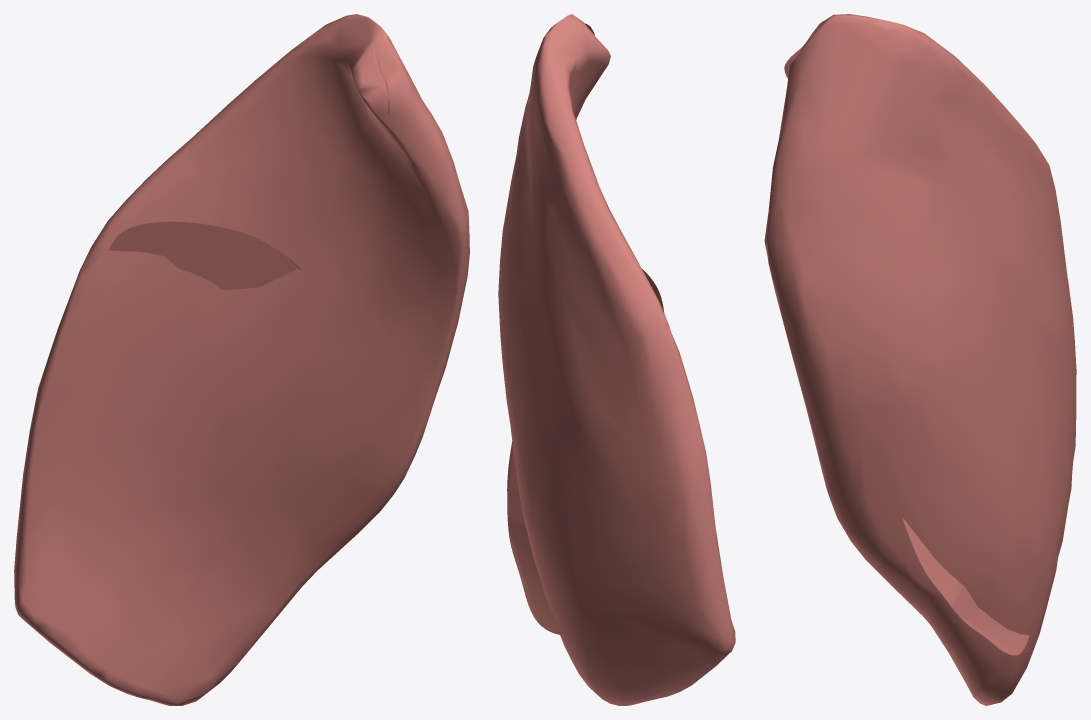
Rendered from fma46578_mm1200.glb.
The picture shows the model from 3 angles, left to right: view 1: azimuth 30°, elevation 25°; view 2: azimuth 150°, elevation 25°; view 3: azimuth 270°, elevation 25°; orthographic projection. The views are drawn at different scales.
Parts seen in each view (by area): view 1: FMA46578_MM1200; view 2: FMA46578_MM1200; view 3: FMA46578_MM1200.
Boxes of the visible parts, box(x1,y1,x2,y2) form: FMA46578_MM1200: box(14, 14, 469, 705); FMA46578_MM1200: box(498, 14, 735, 705); FMA46578_MM1200: box(764, 14, 1076, 705).
Bounding box in the file's own units: 0.00923 × 0.0177 × 0.00664.
